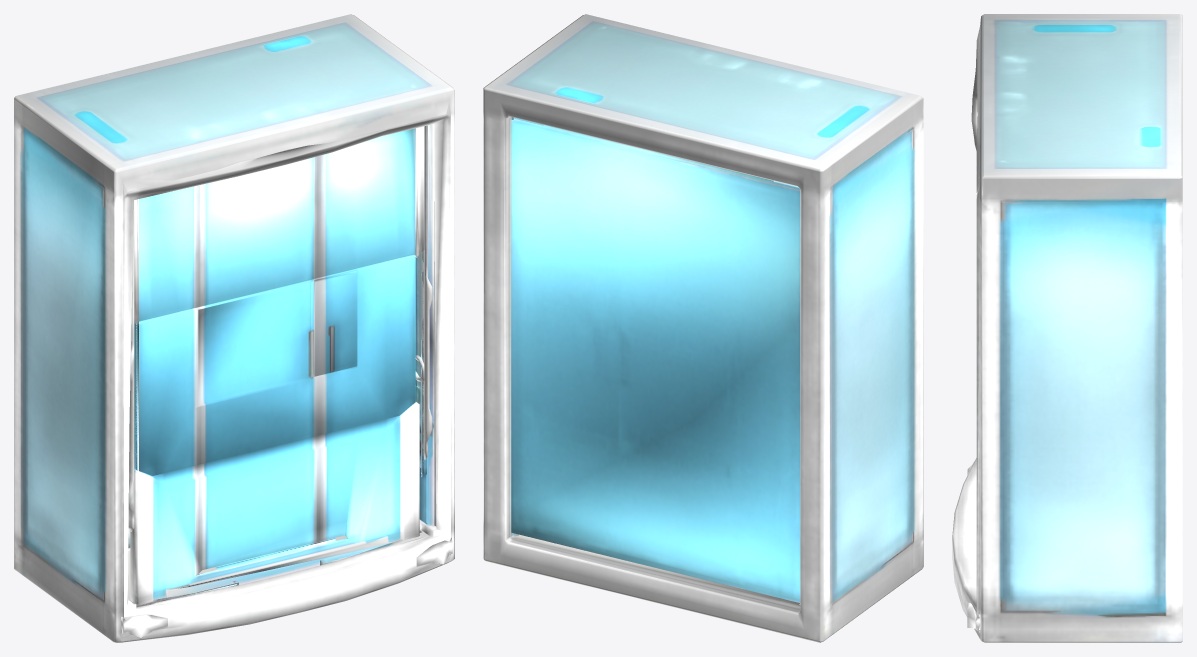
File: Meshy_AI_A_stylized_low_poly_s_0428232730_texture.fbx
3 renders of one model, left to right at view 1: azimuth 30°, elevation 25°; view 2: azimuth 150°, elevation 25°; view 3: azimuth 270°, elevation 25°, orthographic.
Parts seen in each view (by area): view 1: Mesh_0; view 2: Mesh_0; view 3: Mesh_0.
Part boxes in pixels (x1,y1,x2,y2): Mesh_0: (14, 14, 454, 642); Mesh_0: (483, 14, 923, 642); Mesh_0: (952, 14, 1182, 642).
Size of the model in its own units: 143 by 191 by 84.93.
Materials: 1 (1 with a texture image).
